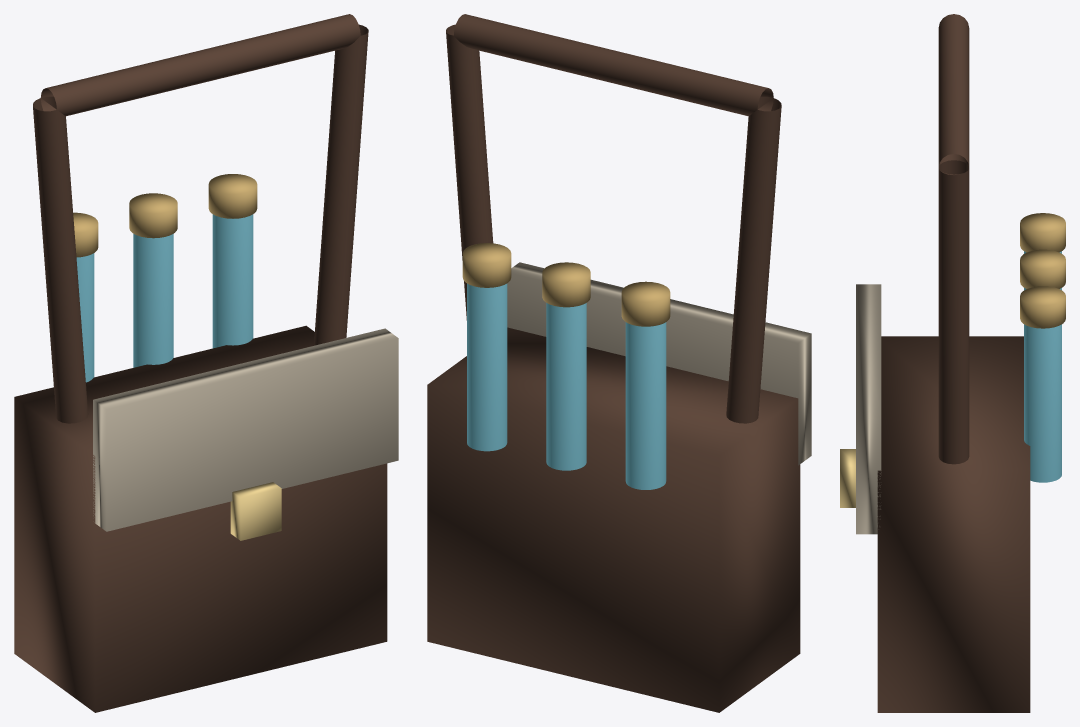
File: Lyra_HealersSatchel_REVIEW.glb
3 renders of one model, left to right at view 1: azimuth 30°, elevation 25°; view 2: azimuth 150°, elevation 25°; view 3: azimuth 270°, elevation 25°, orthographic. The views are drawn at different scales.
Visible parts, largest first — view 1: HealersSatchel; view 2: HealersSatchel; view 3: HealersSatchel.
Part boxes in pixels (x1,y1,x2,y2): HealersSatchel: [14, 14, 398, 712]; HealersSatchel: [427, 14, 811, 712]; HealersSatchel: [840, 14, 1065, 712].
Bounding box in the file's own units: 0.2839 × 0.487 × 0.1775.
